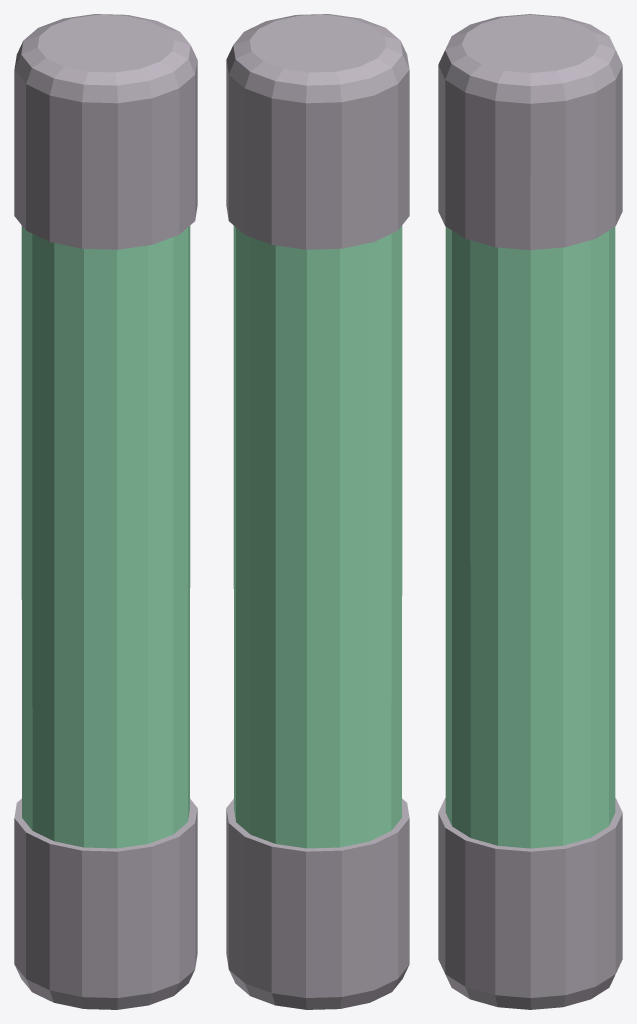
Rendered from Fuse.fbx.
3 views of the same model, side by side, from view 1: azimuth 30°, elevation 25°; view 2: azimuth 150°, elevation 25°; view 3: azimuth 270°, elevation 25° (orthographic).
Visible parts, largest first — view 1: Цилиндр, Цилиндр.002, Цилиндр.001; view 2: Цилиндр, Цилиндр.002, Цилиндр.001; view 3: Цилиндр, Цилиндр.002, Цилиндр.001.
Part boxes in pixels (x1,y1,x2,y2): Цилиндр: (21,225,190,848); Цилиндр.002: (14,14,197,249); Цилиндр.001: (14,798,197,1009); Цилиндр: (233,225,402,848); Цилиндр.002: (226,14,409,249); Цилиндр.001: (226,798,409,1009); Цилиндр: (445,227,615,848); Цилиндр.002: (438,14,622,250); Цилиндр.001: (438,798,622,1009).
Size of the model in its own units: 241 by 1348 by 241.
